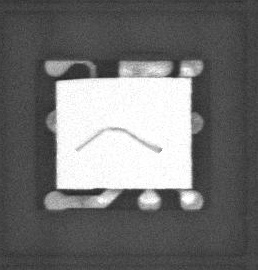DIE_INK: (70, 132, 155, 160)
